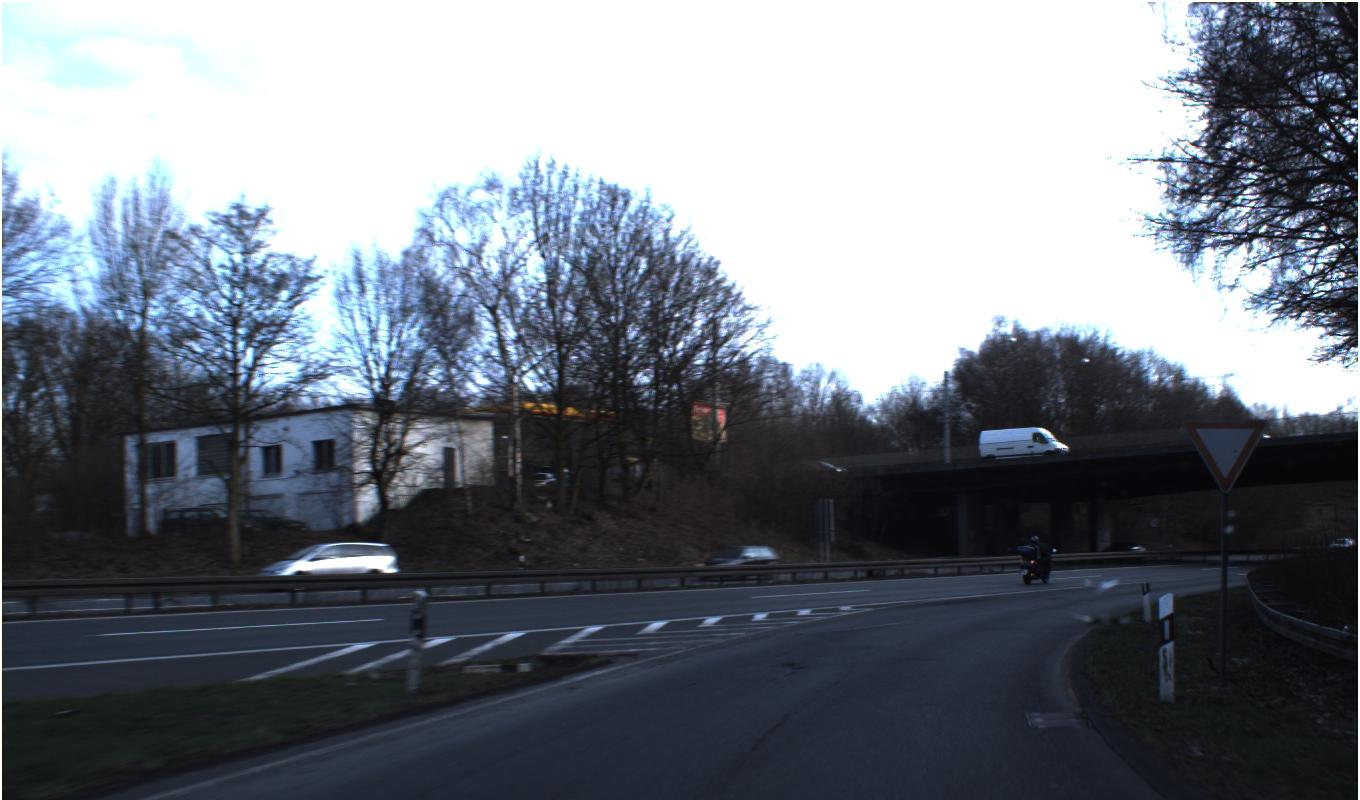sign: (1182, 418, 1268, 495)
